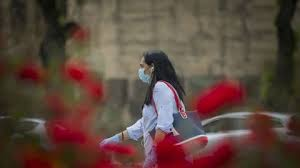with_mask: (135, 53, 164, 86)
